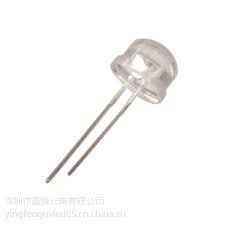LED: (77, 35, 180, 143)
